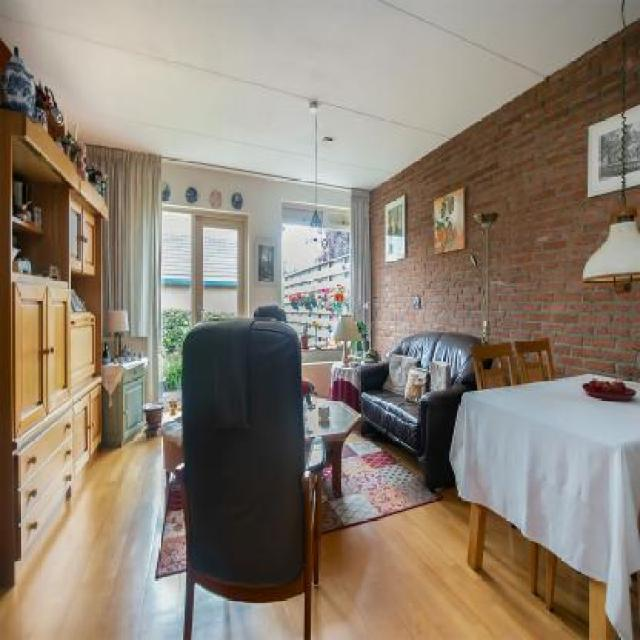floor: (185, 426, 611, 640), (2, 427, 187, 639)
